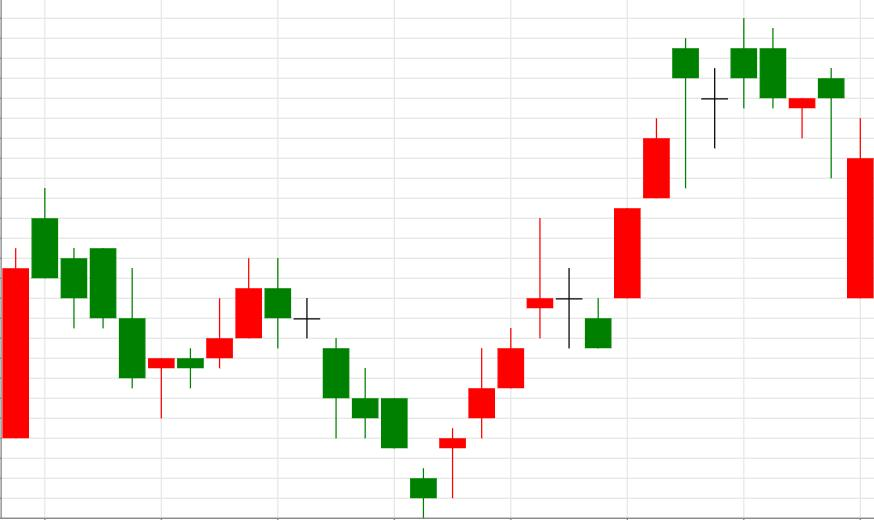hanging_man_fall: (585, 37, 699, 348)
